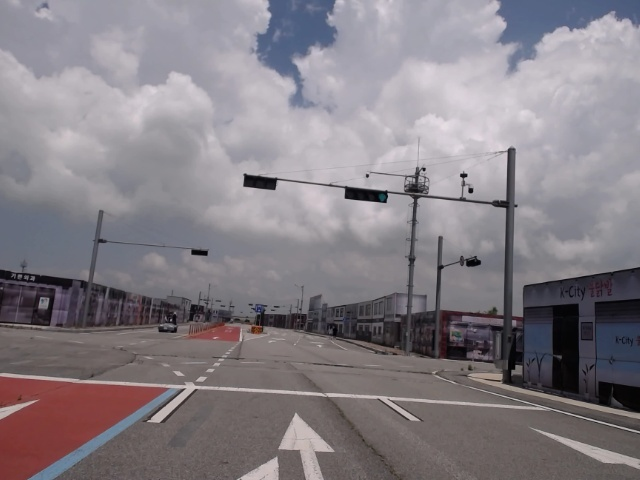straight_green_4: (345, 187, 388, 204)
